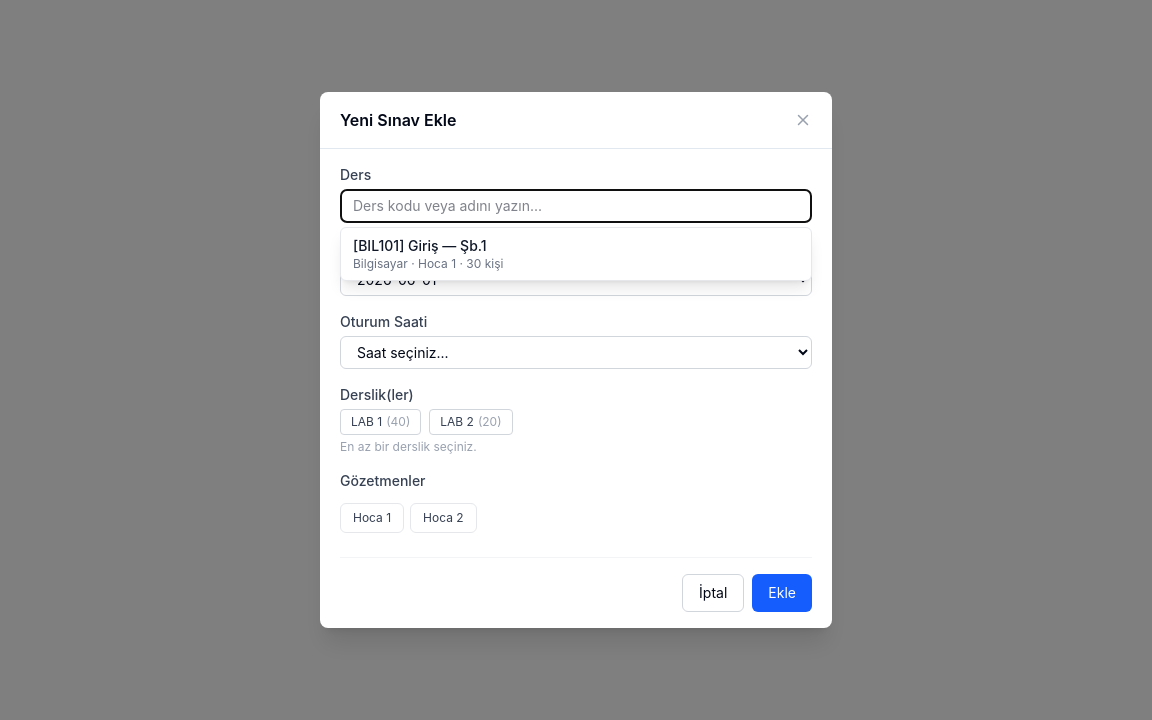
Test: ExamModal › kapasite yetersizse butonu devre dışı bırakmalı ve mesaj göstermeli
Ders seçimi
Type "BIL101" into the field with placeholder "Ders kodu veya adını yazın..." at (576, 206), box [340,189,812,223]
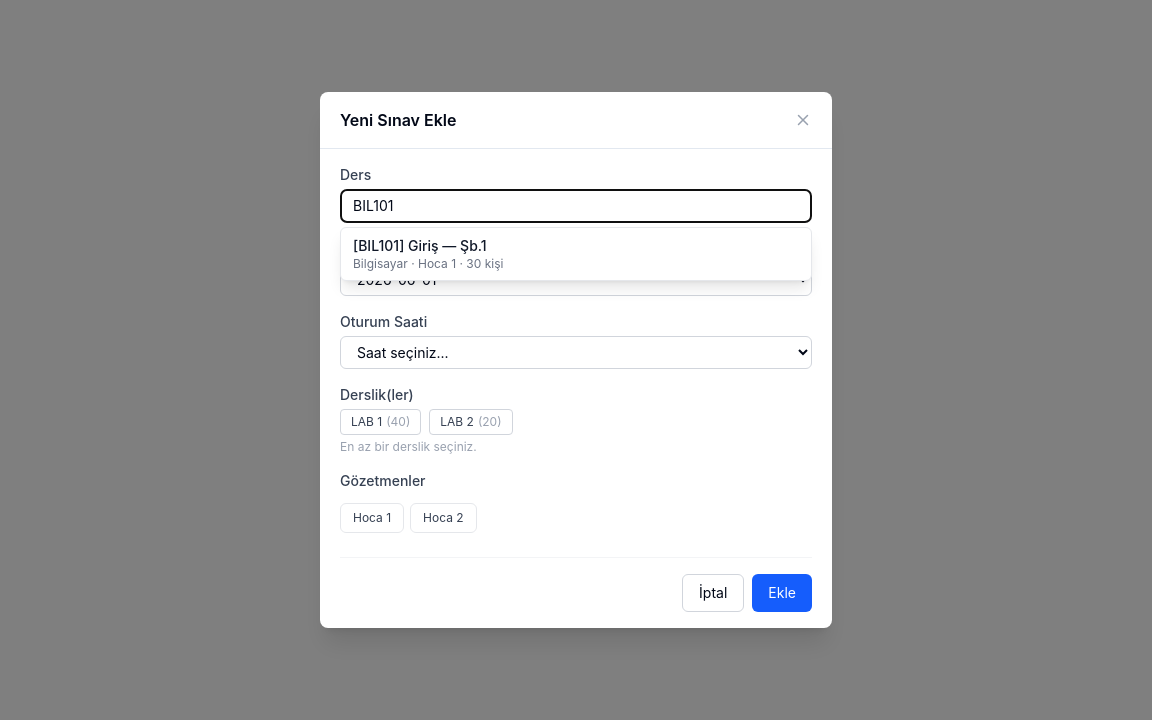
Click the text "[BIL101] Giriş — Şb.1" at (420, 246), box [353,237,487,254]
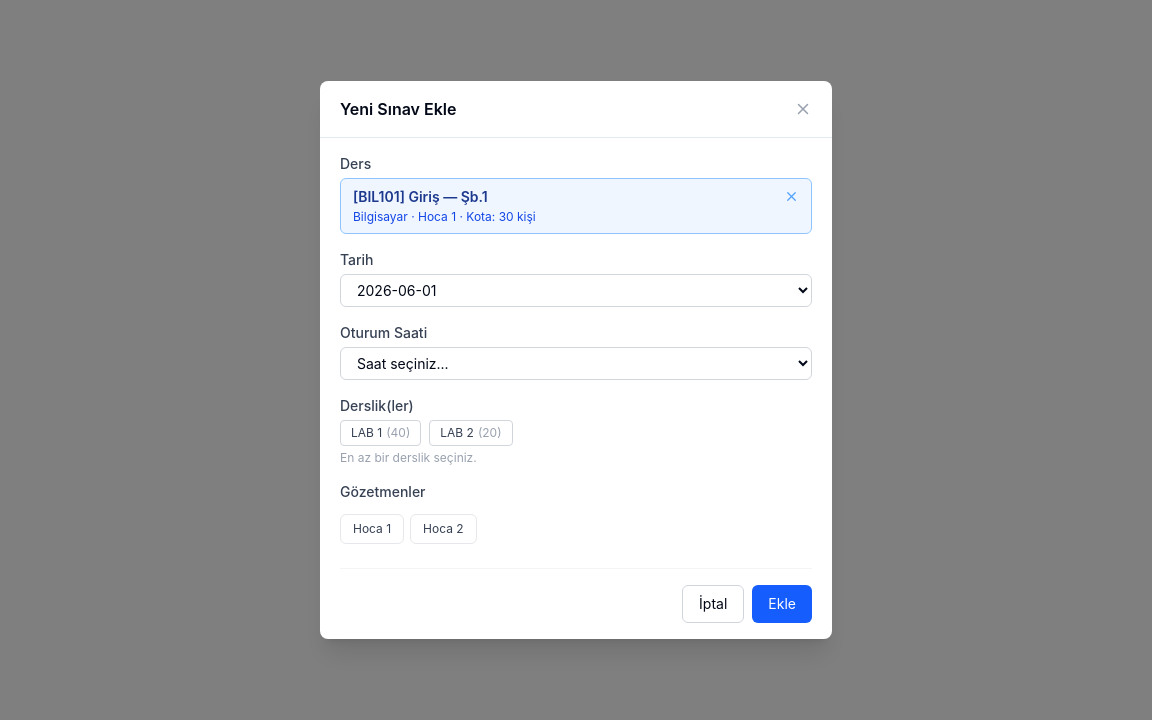
Tarih ve Saat
Select "2026-06-01" in the dropdown labelled "Tarih" at (576, 290), box [340,274,812,307]
Select "10:00" in the dropdown labelled "Oturum Saati" at (576, 364), box [340,347,812,380]
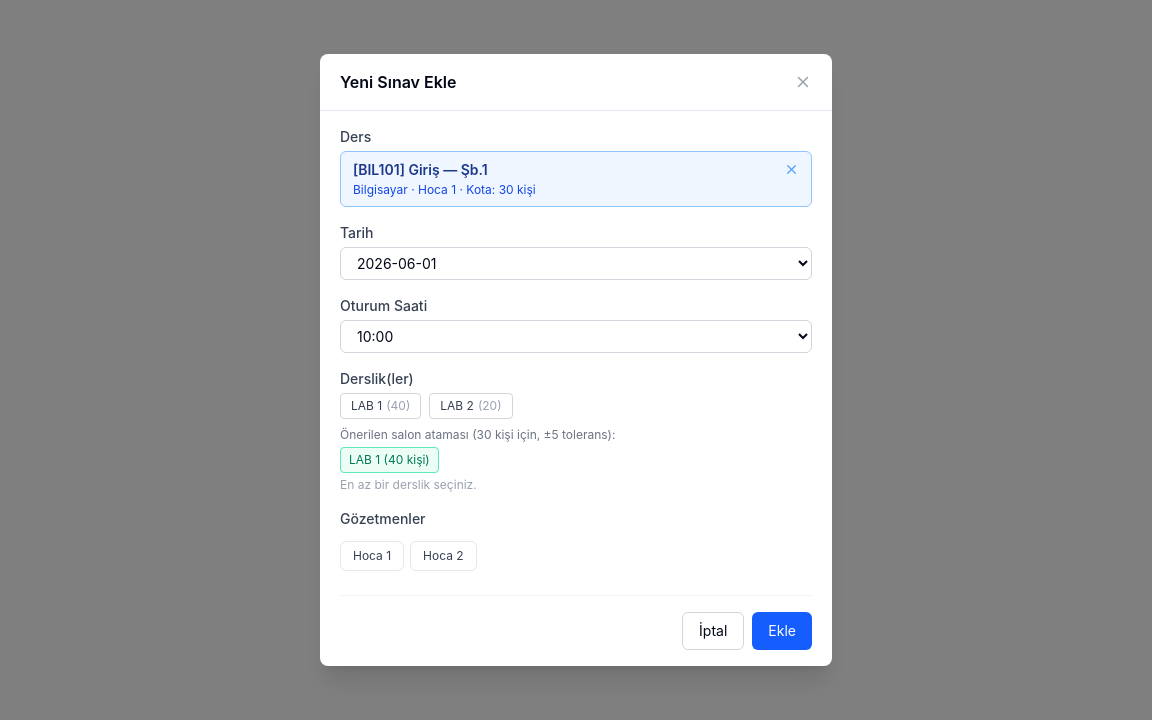
Yetersiz kapasiteli salon seçimi (LAB 2 - 20 kapasite, kota 30)
Click the button "LAB 2(20)" at (471, 406), box [429,393,513,419]
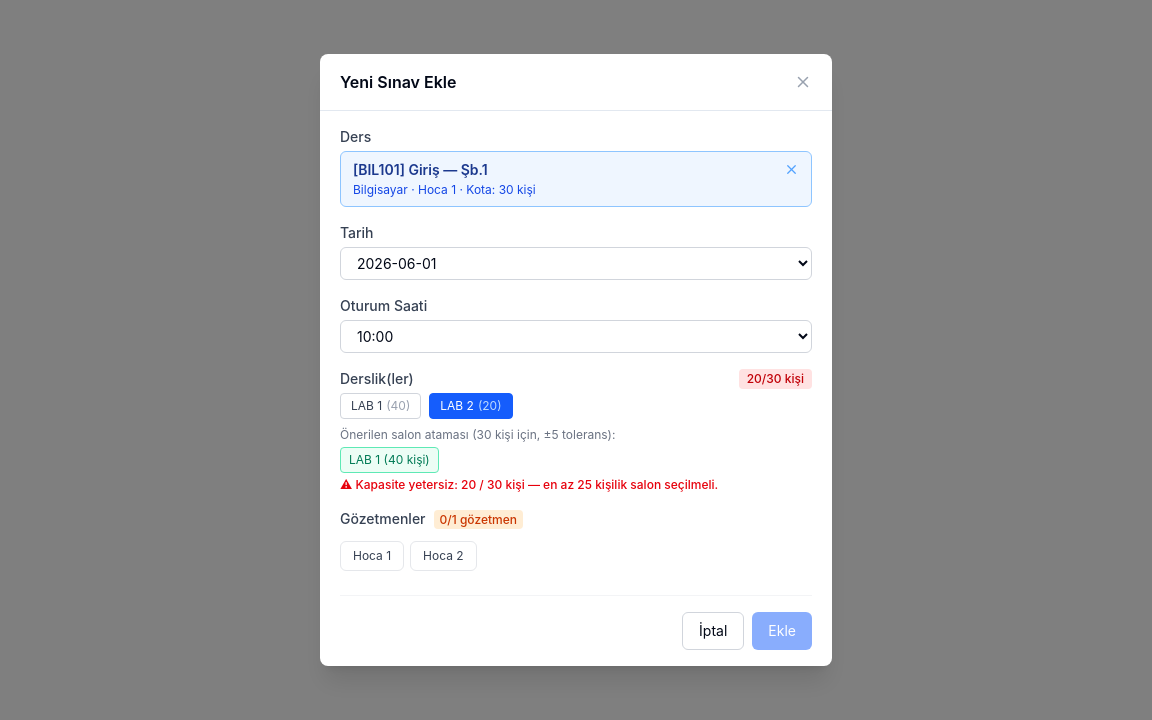
Expected: the button "Ekle" is disabled, [752,612,812,650]
Expected: the text "⚠ Kapasite yetersiz:" is shown, [340,477,461,492]
